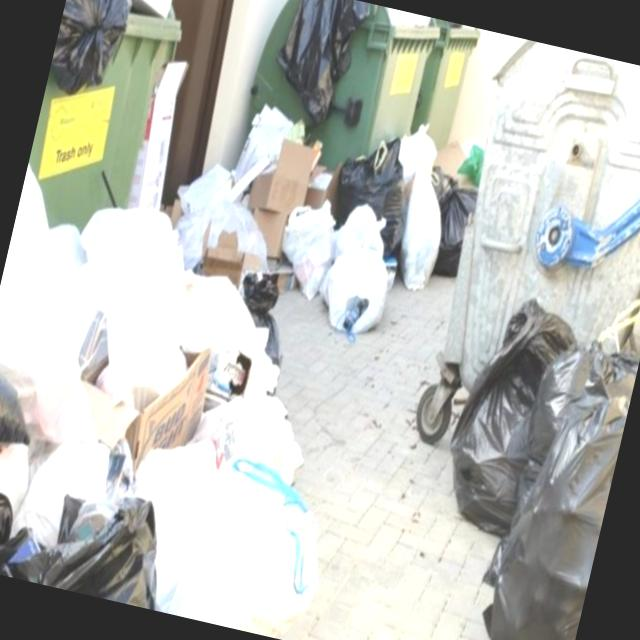garbage: (0, 0, 505, 640), (396, 274, 640, 640)
